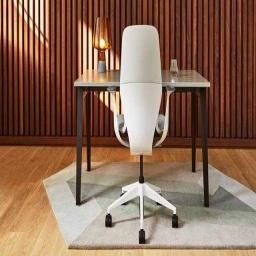Chair: (106, 25, 180, 245)
